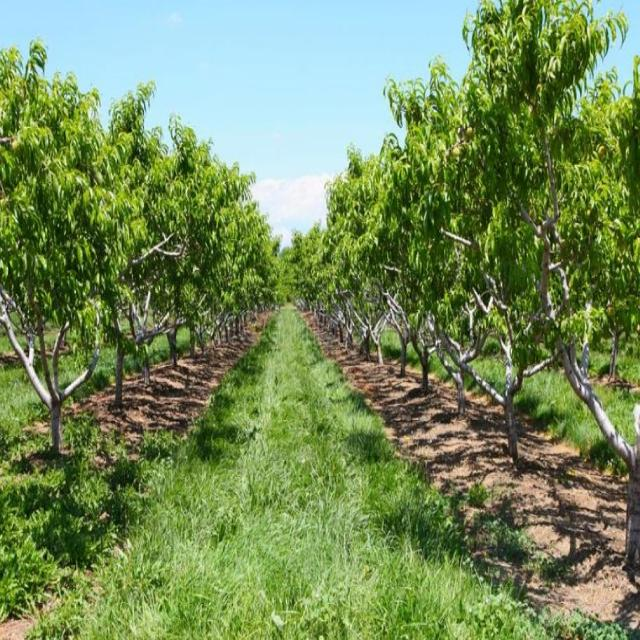row: (13, 303, 607, 640)
